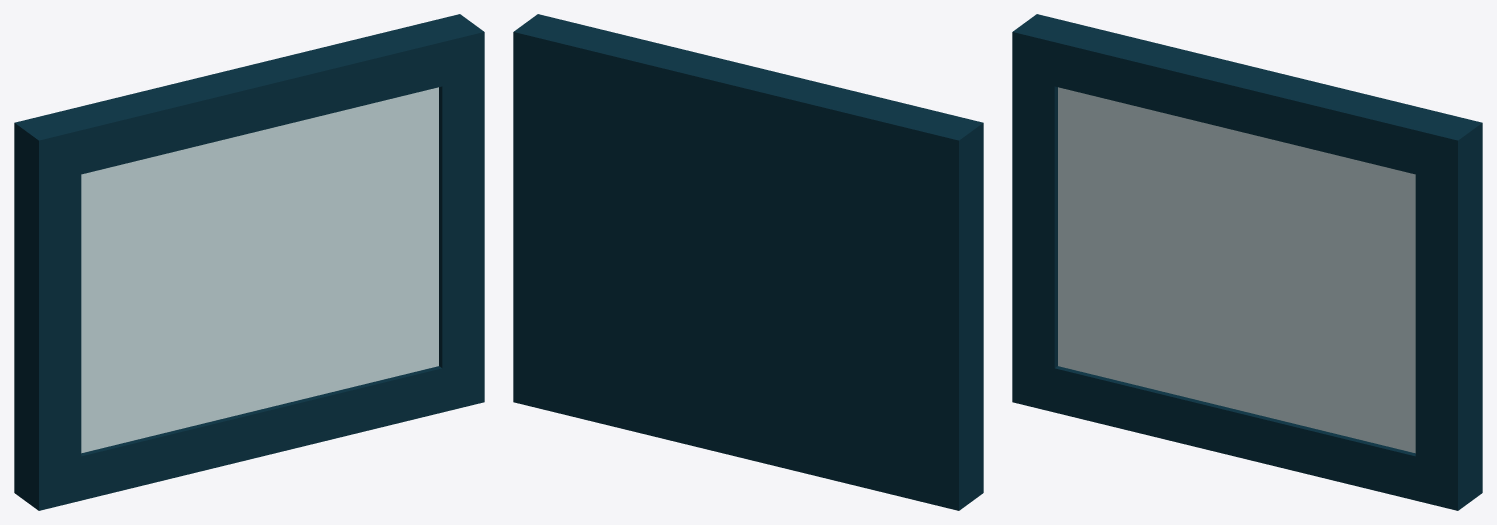
File: Itr_Obj_Laptop_Screen_on_03.FBX
3 views of the same model, side by side, from view 1: azimuth 30°, elevation 25°; view 2: azimuth 150°, elevation 25°; view 3: azimuth 330°, elevation 25° (orthographic).
Parts seen in each view (by area): view 1: Itr_Obj_Laptop_Screen_on_03; view 2: Itr_Obj_Laptop_Screen_on_03; view 3: Itr_Obj_Laptop_Screen_on_03.
Boxes of the visible parts, x1=… form: Itr_Obj_Laptop_Screen_on_03: x1=14, y1=14, x2=484, y2=510; Itr_Obj_Laptop_Screen_on_03: x1=513, y1=14, x2=983, y2=510; Itr_Obj_Laptop_Screen_on_03: x1=1012, y1=14, x2=1482, y2=510.
Bounding box in the file's own units: 29.1 × 23.12 × 2.77.
